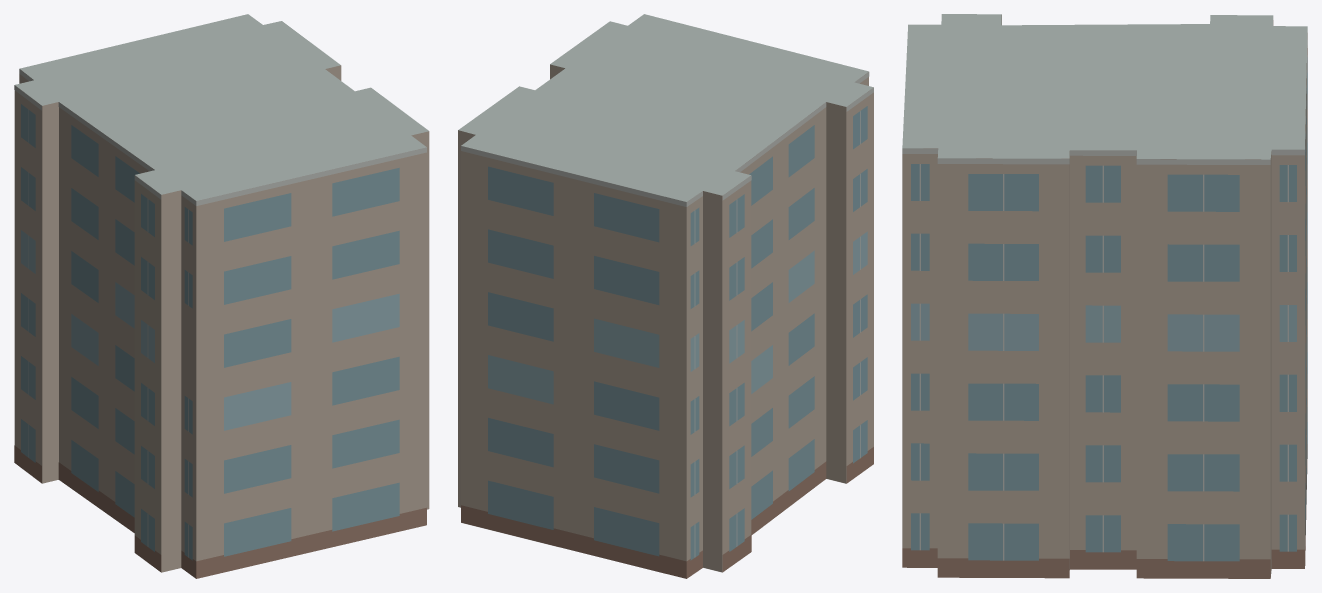
The model's file is survey-upis-32631384.glb.
The picture shows the model from 3 angles, left to right: view 1: azimuth 30°, elevation 25°; view 2: azimuth 150°, elevation 25°; view 3: azimuth 270°, elevation 25°; orthographic projection. The views are drawn at different scales.
Parts seen in each view (by area): view 1: survey-upis-32631384.tmp; view 2: survey-upis-32631384.tmp; view 3: survey-upis-32631384.tmp.
Boxes of the visible parts, bbox=[...] form: survey-upis-32631384.tmp: bbox=[14, 14, 429, 578]; survey-upis-32631384.tmp: bbox=[458, 14, 873, 578]; survey-upis-32631384.tmp: bbox=[902, 14, 1307, 578].
Size of the model in its own units: 13.48 by 18.1 by 15.86.
